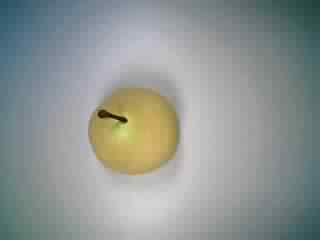pear: (74, 81, 190, 184)
